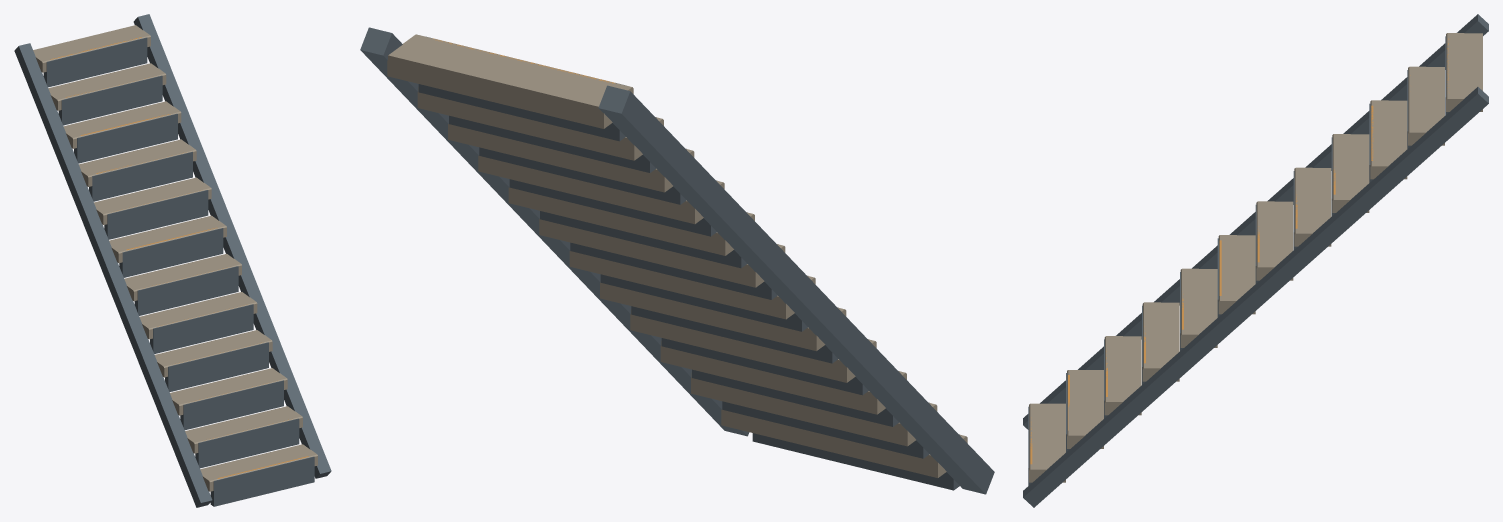
File: 0-20261016-1900-ev009-r01-lobby-staircase.fbx
The picture shows the model from 3 angles, left to right: view 1: azimuth 30°, elevation 25°; view 2: azimuth 150°, elevation 25°; view 3: azimuth 270°, elevation 25°; orthographic projection. The views are drawn at different scales.
Visible parts, largest first — view 1: SW_Lobby_Staircase; view 2: SW_Lobby_Staircase; view 3: SW_Lobby_Staircase.
Boxes of the visible parts, left/top/right/bottom form: SW_Lobby_Staircase: left=14, top=14, right=331, bottom=507; SW_Lobby_Staircase: left=360, top=27, right=994, bottom=494; SW_Lobby_Staircase: left=1023, top=14, right=1488, bottom=507.
Size of the model in its own units: 169 by 411 by 418.
